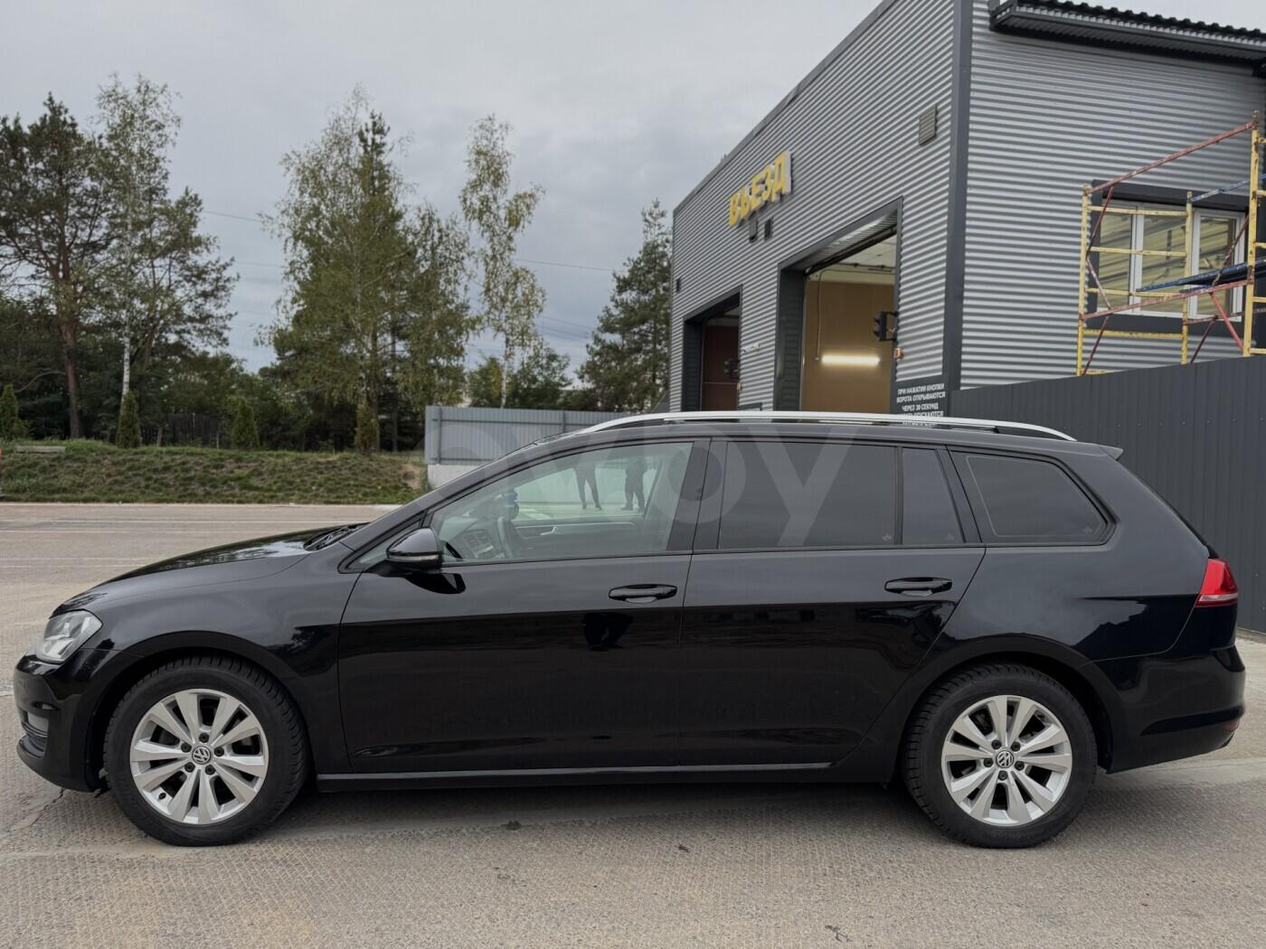Golf_2012-2017: (0, 414, 1246, 847)
